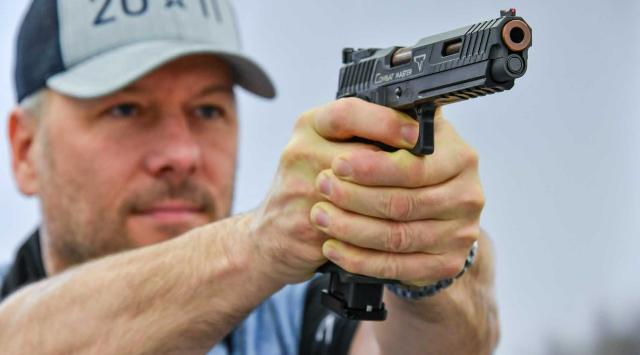handgun: (312, 5, 536, 326)
